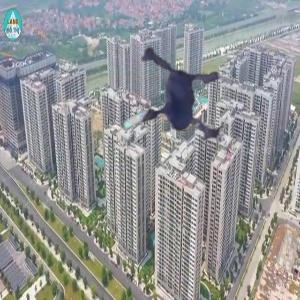drone: (67, 17, 246, 196)
